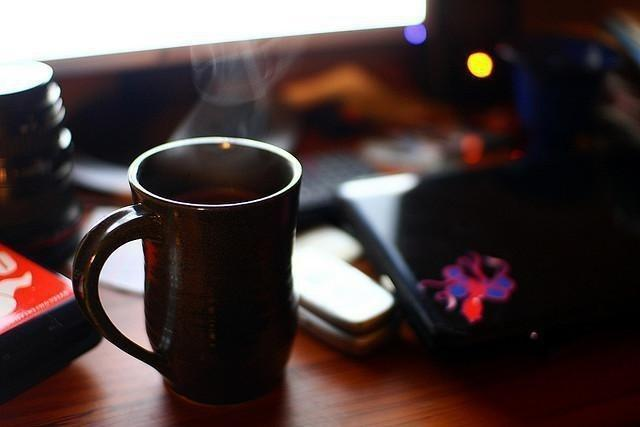cup-handle: (73, 136, 304, 407)
